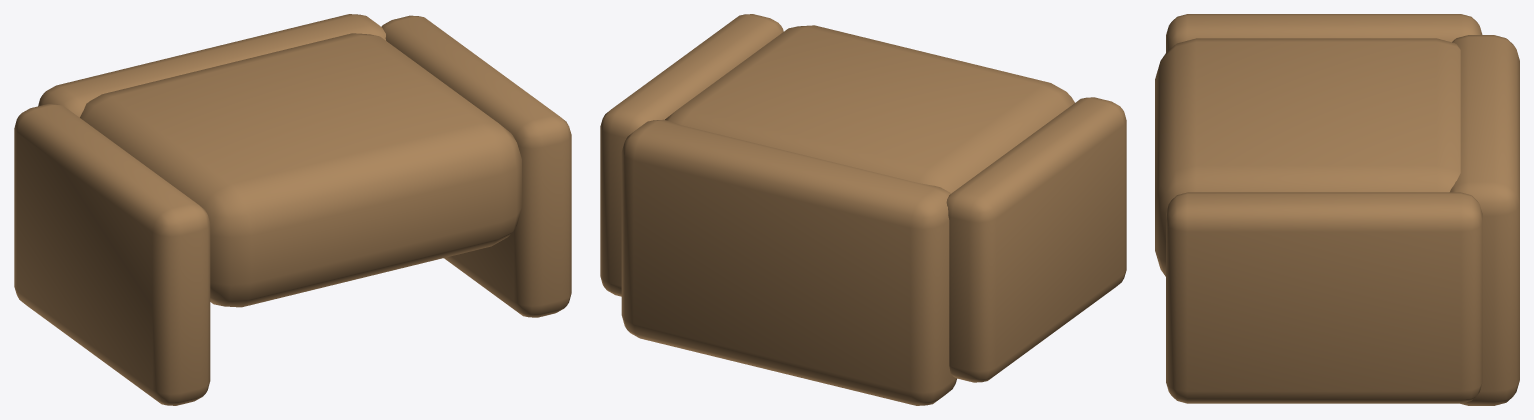
Rendered from hair-buzz-brown.glb.
The picture shows the model from 3 angles, left to right: view 1: azimuth 30°, elevation 25°; view 2: azimuth 150°, elevation 25°; view 3: azimuth 270°, elevation 25°; orthographic projection. The views are drawn at different scales.
Parts seen in each view (by area): view 1: hair_top, hair_side_-1, hair_side_1, hair_back; view 2: hair_back, hair_top, hair_side_-1, hair_side_1; view 3: hair_side_1, hair_top, hair_back, hair_side_-1.
Part boxes in pixels (left/top/right/bottom): hair_top: left=80, top=33, right=521, bottom=307; hair_side_-1: left=14, top=104, right=210, bottom=405; hair_side_1: left=381, top=15, right=571, bottom=317; hair_back: left=38, top=14, right=385, bottom=117; hair_back: left=621, top=119, right=956, bottom=405; hair_top: left=665, top=25, right=1074, bottom=193; hair_side_-1: left=946, top=97, right=1126, bottom=382; hair_side_1: left=600, top=14, right=783, bottom=296; hair_side_1: left=1166, top=192, right=1482, bottom=403; hair_top: left=1155, top=38, right=1460, bottom=276; hair_back: left=1450, top=35, right=1519, bottom=405; hair_side_-1: left=1166, top=14, right=1482, bottom=52.
Size of the model in its own units: 0.378 by 0.195 by 0.2835.
